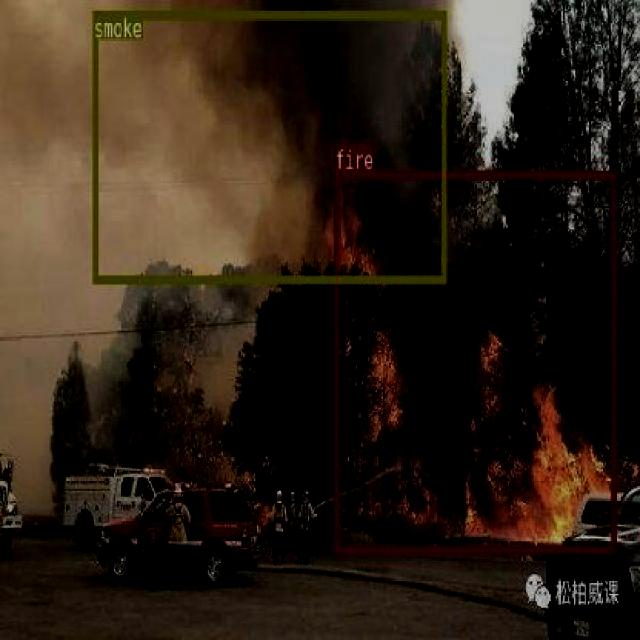fire: (333, 170, 615, 552)
smoke: (92, 9, 445, 282)
